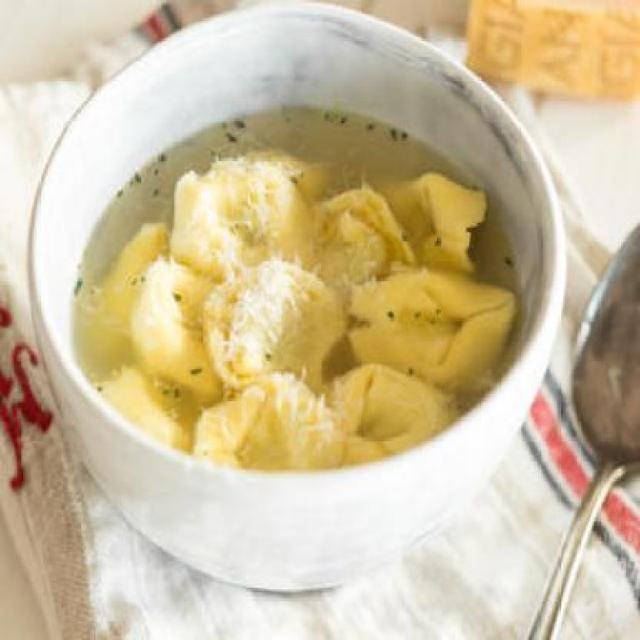Tortellini in broth: (109, 147, 485, 450)
